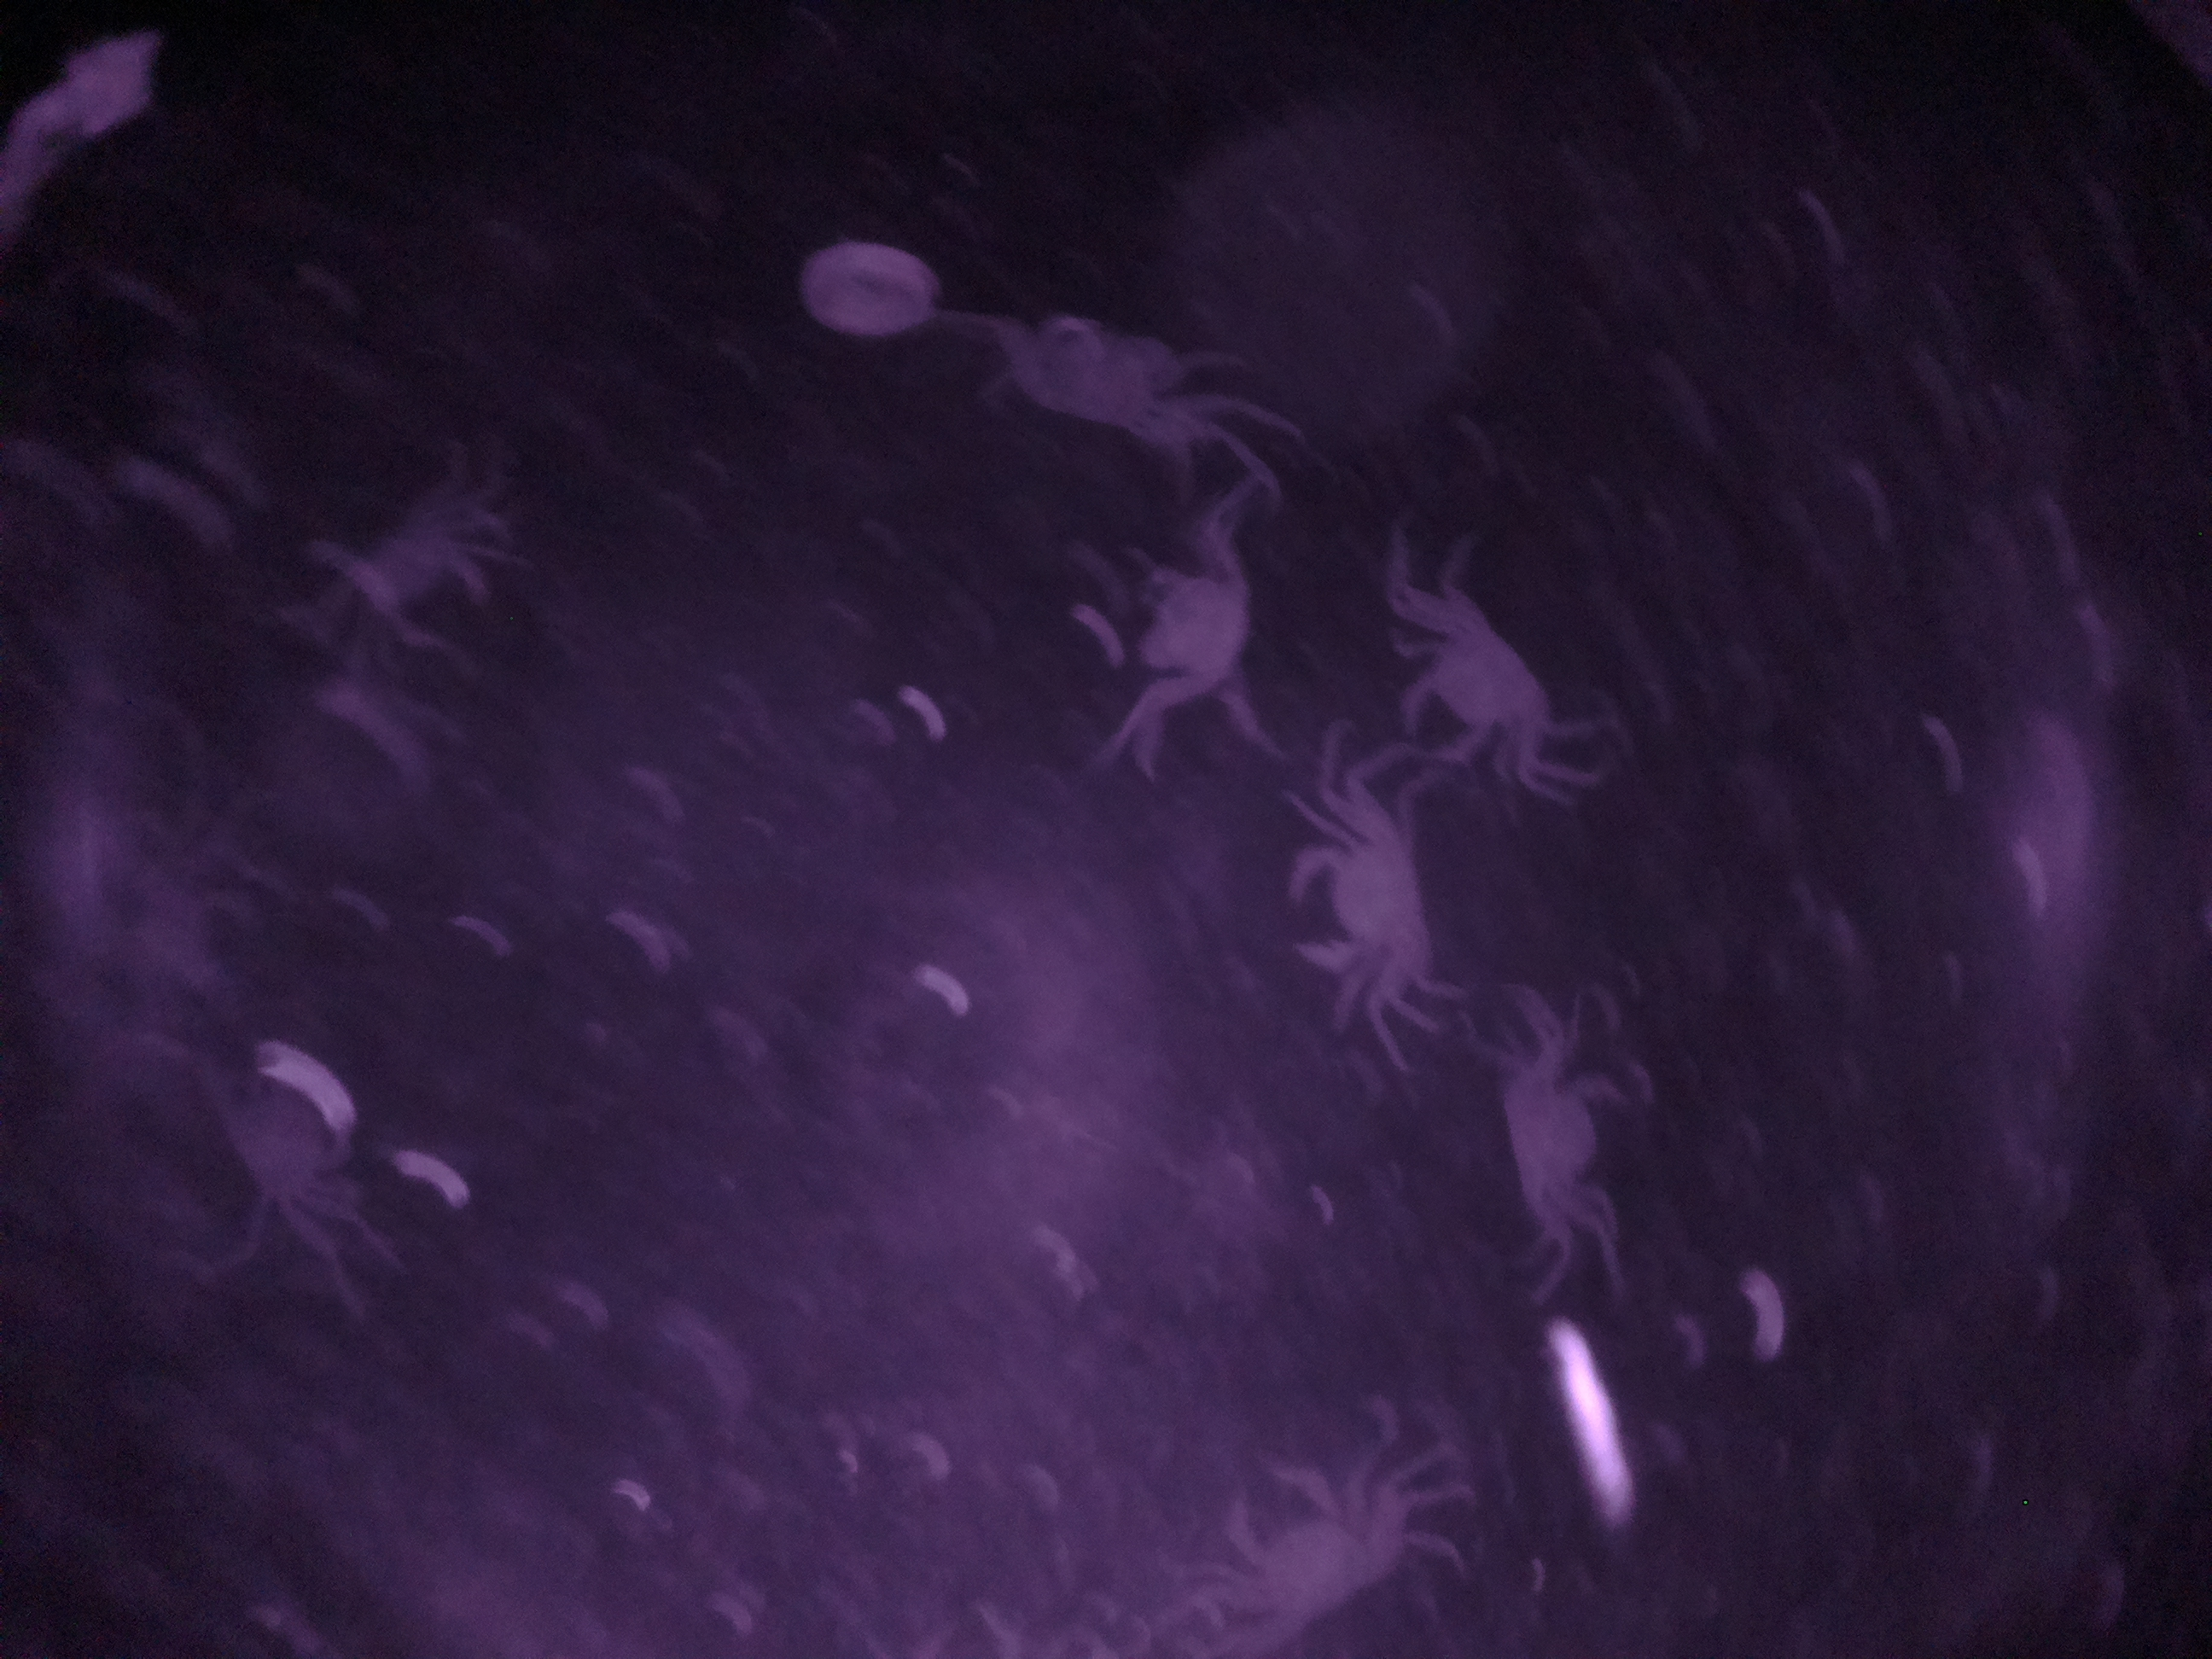Crab: (1268, 791, 1440, 1030)
